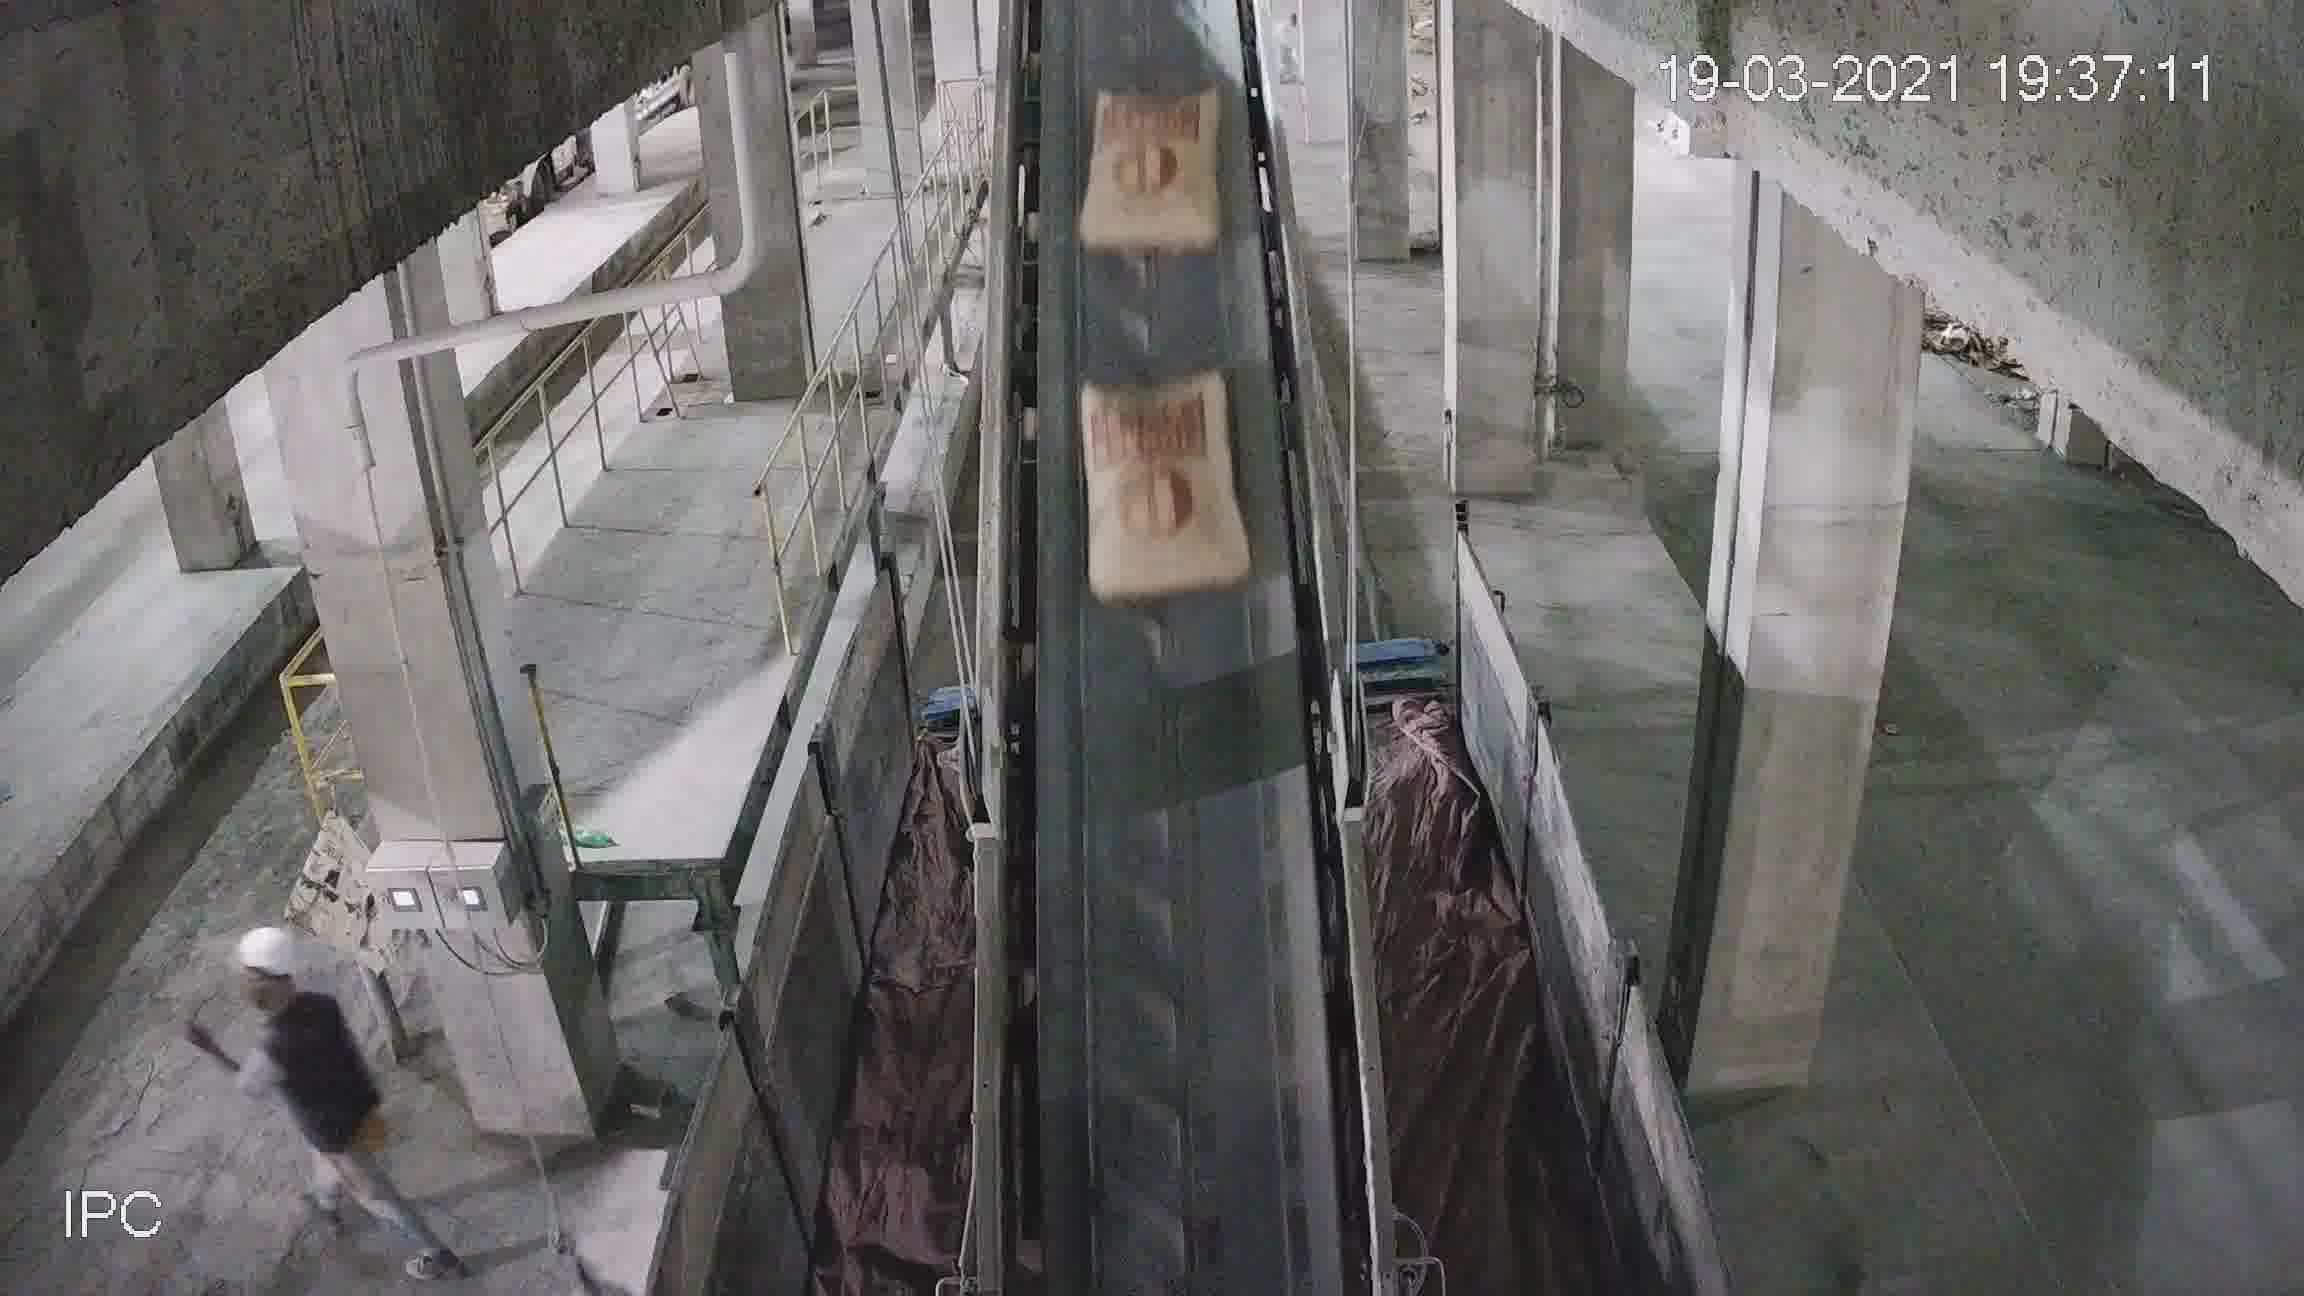bag: (1082, 369, 1242, 600), (1079, 104, 1225, 255)
belt: (980, 32, 1340, 1141)
